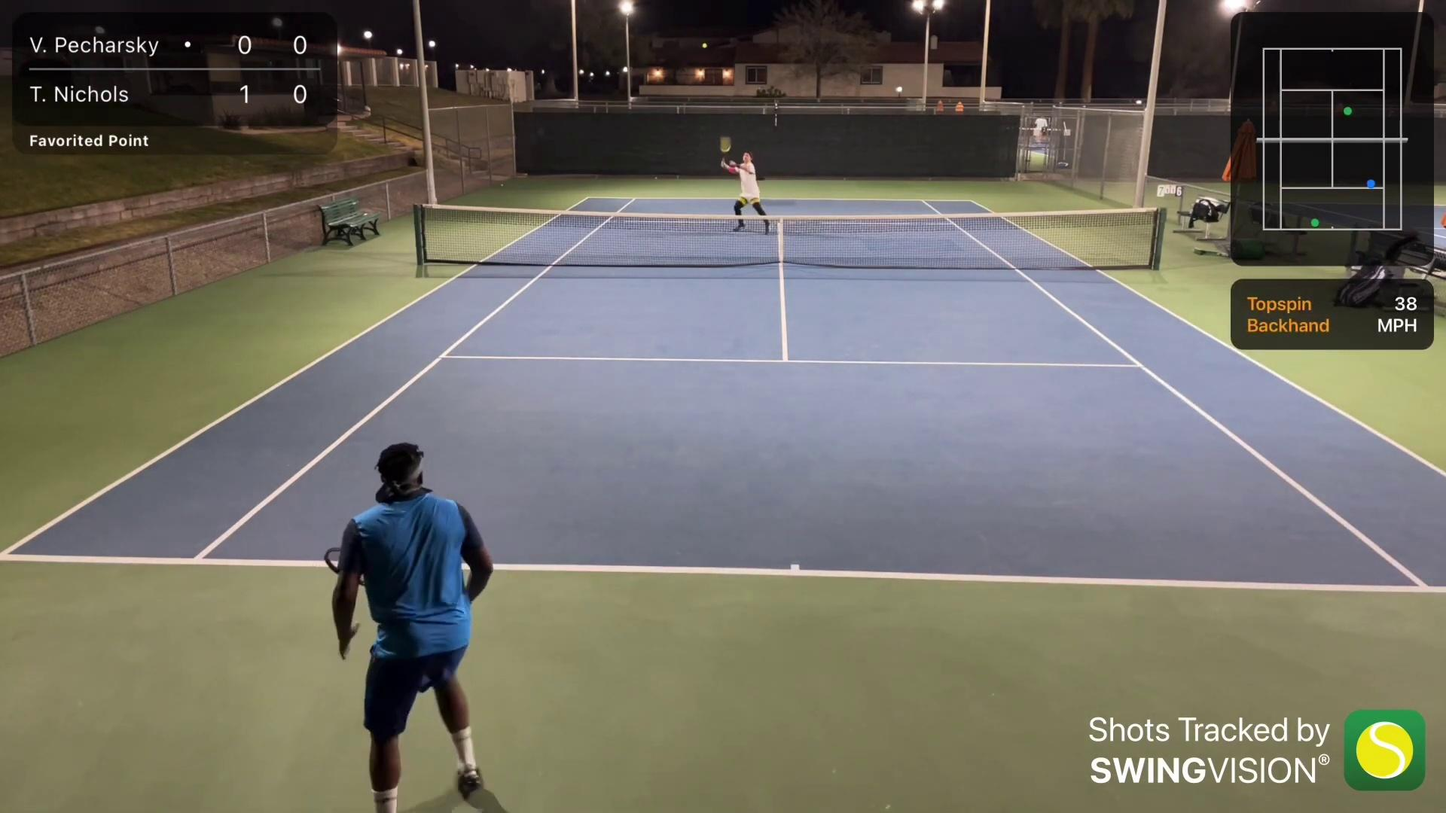ball: (702, 41, 709, 48)
